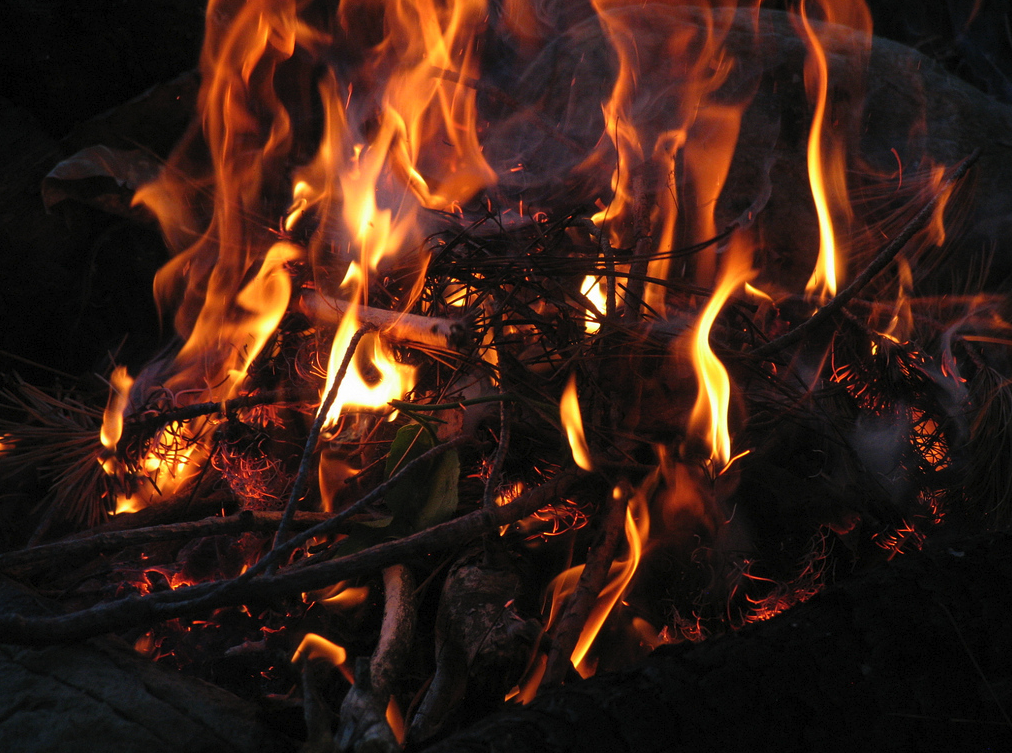fire: (136, 17, 958, 650)
